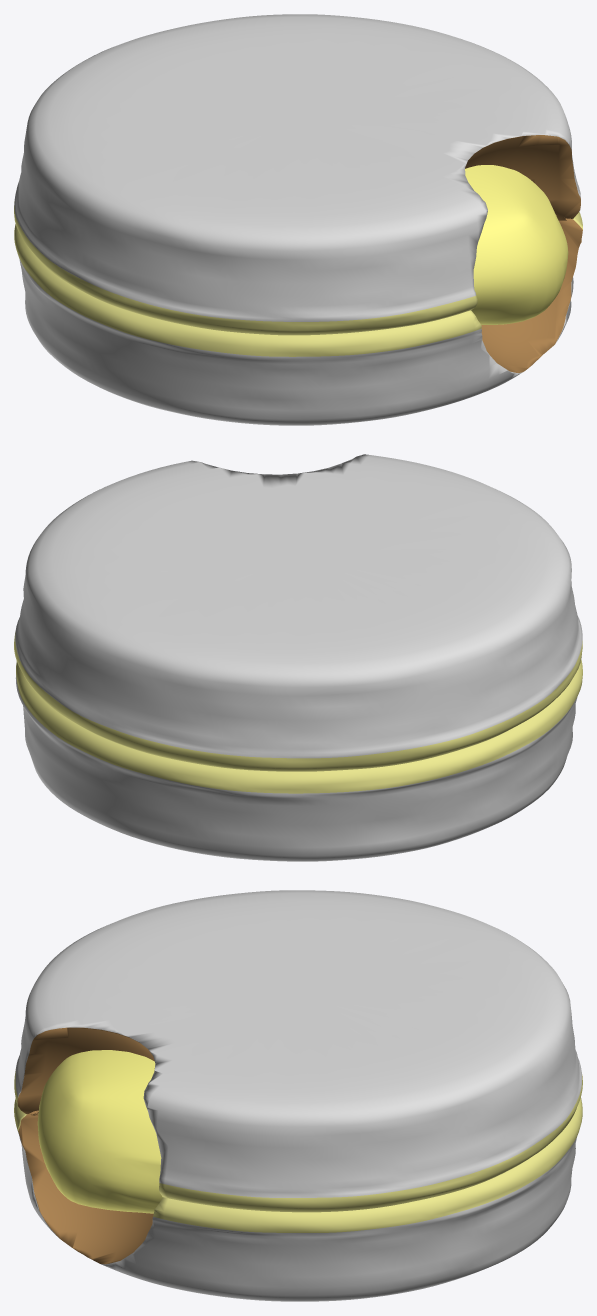
The model's file is 紅豆餅.glb.
3 renders of one model, top to bottom at view 1: azimuth 30°, elevation 25°; view 2: azimuth 150°, elevation 25°; view 3: azimuth 270°, elevation 25°, orthographic.
Parts seen in each view (by area): view 1: Cylinder, Mball.002; view 2: Cylinder; view 3: Cylinder, Mball.002.
Part boxes in pixels (bbox=[...]): Cylinder: bbox=[14, 14, 582, 425]; Mball.002: bbox=[465, 165, 568, 324]; Cylinder: bbox=[14, 454, 582, 861]; Cylinder: bbox=[14, 890, 582, 1301]; Mball.002: bbox=[37, 1050, 162, 1213].
Size of the model in its own units: 2.07 by 0.8121 by 2.08.
